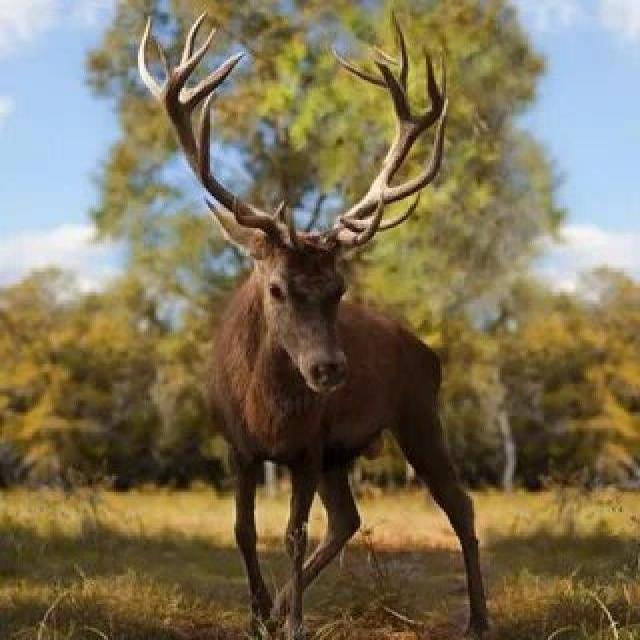deer: (95, 39, 553, 636)
